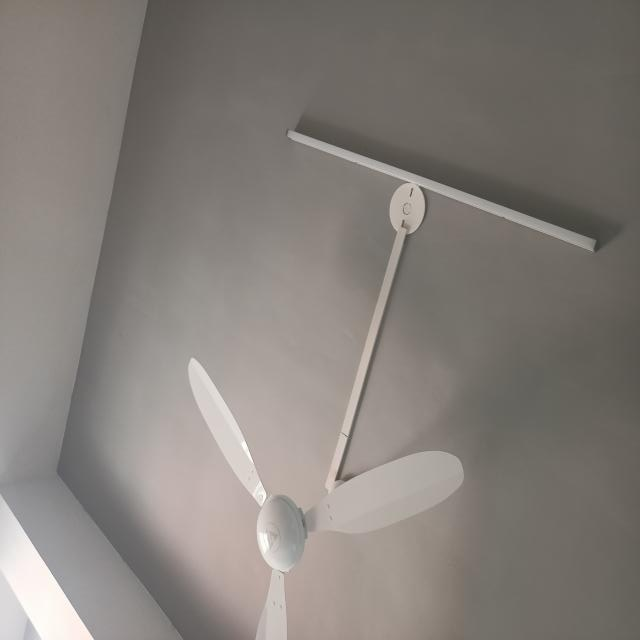fluorescent tube: (278, 121, 605, 256)
